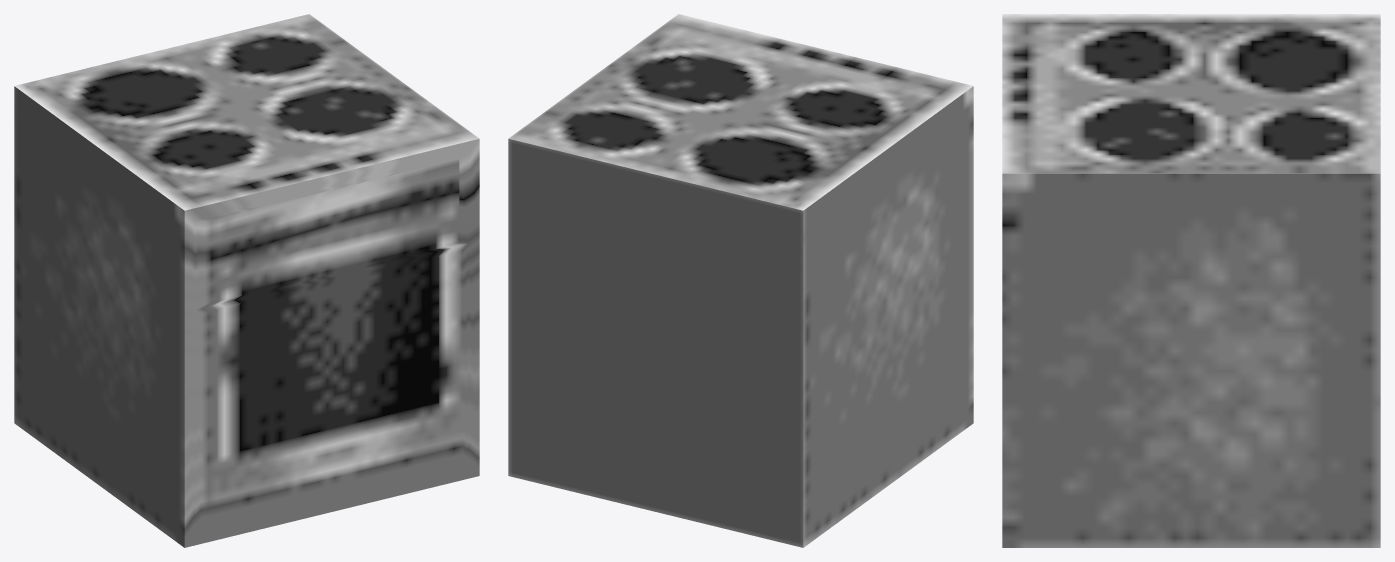
Rendered from stove.fbx.
The picture shows the model from 3 angles, left to right: view 1: azimuth 30°, elevation 25°; view 2: azimuth 150°, elevation 25°; view 3: azimuth 270°, elevation 25°; orthographic projection. The views are drawn at different scales.
Visible parts, largest first — view 1: stove; view 2: stove; view 3: stove.
Boxes of the visible parts, x1,y1,x2,y2 form: stove: [14, 14, 479, 547]; stove: [508, 14, 973, 547]; stove: [1002, 14, 1380, 547].
Bounding box in the file's own units: 84.45 × 92.22 × 84.45.
Materials: 1 (1 with a texture image).
